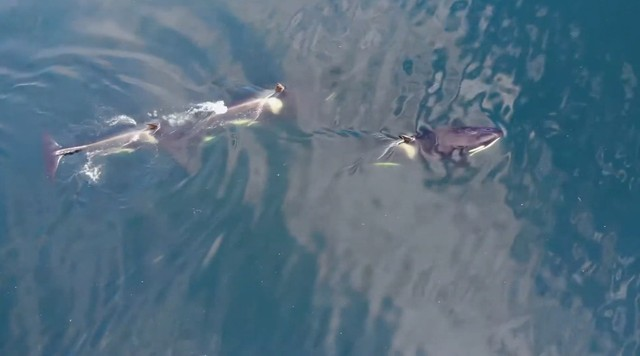whale: (28, 57, 319, 189), (331, 118, 511, 202)
